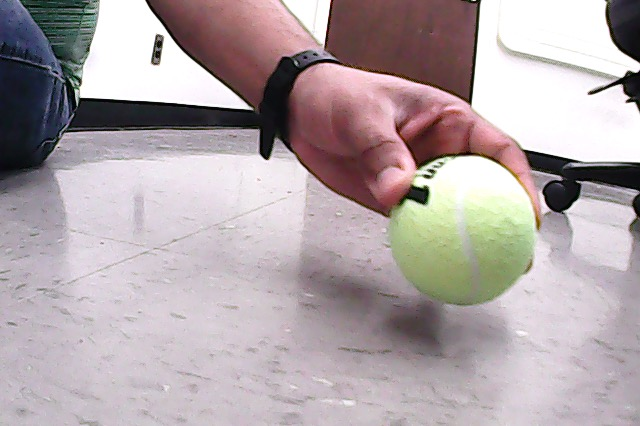ball: (390, 155, 537, 307)
